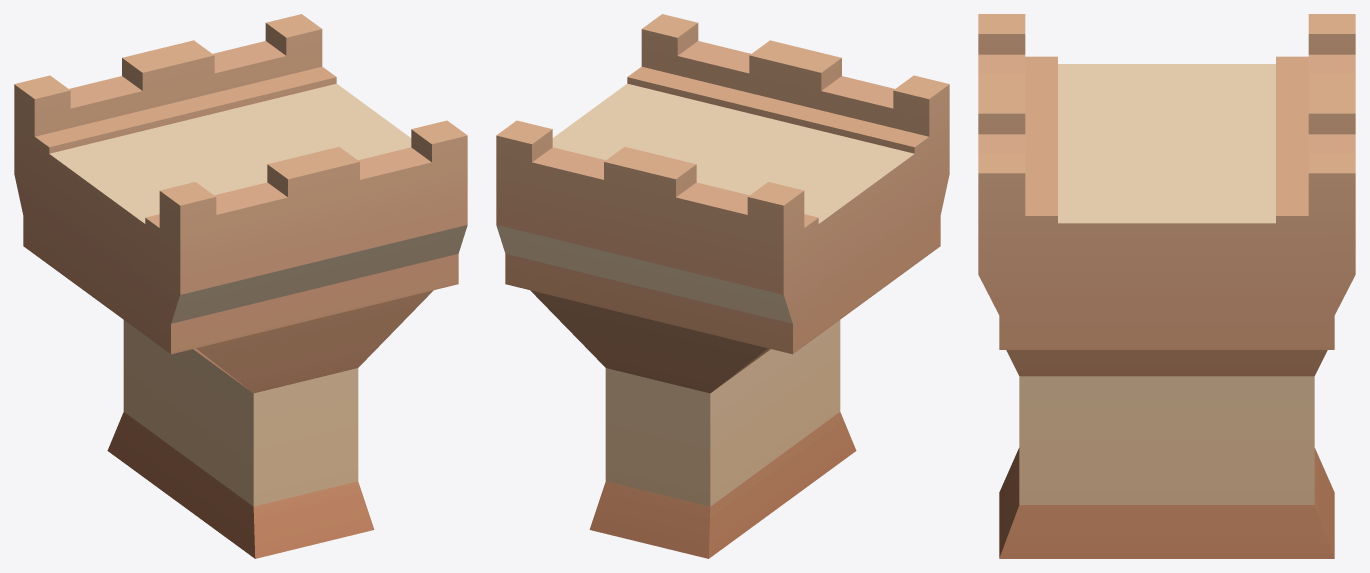
Rendered from bridge-straight-pillar.glb.
The picture shows the model from 3 angles, left to right: view 1: azimuth 30°, elevation 25°; view 2: azimuth 150°, elevation 25°; view 3: azimuth 270°, elevation 25°; orthographic projection. The views are drawn at different scales.
Parts seen in each view (by area): view 1: bridge-straight-pillar; view 2: bridge-straight-pillar; view 3: bridge-straight-pillar.
Part boxes in pixels (x1,y1,x2,y2): bridge-straight-pillar: (14, 14, 467, 558); bridge-straight-pillar: (496, 14, 949, 558); bridge-straight-pillar: (978, 14, 1355, 558).
Size of the model in its own units: 0.9301 by 1.18 by 0.9301.
Materials: 1 (1 with a texture image).
